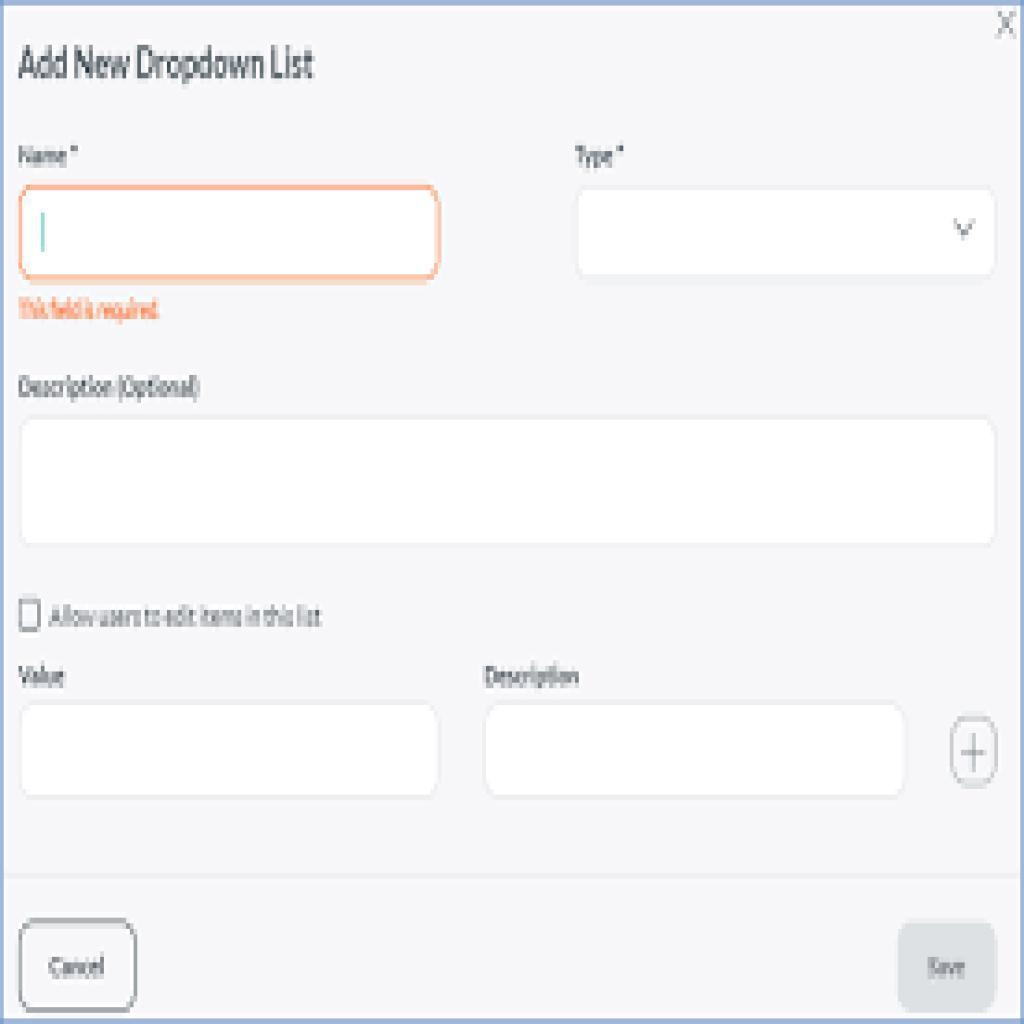button: (19, 919, 138, 1012), (899, 921, 997, 1015)
checkbox: (18, 599, 41, 631)
dropdown: (579, 189, 995, 275)
icon: (958, 732, 992, 775)
input: (25, 708, 439, 801), (485, 701, 908, 791), (18, 189, 439, 279)
